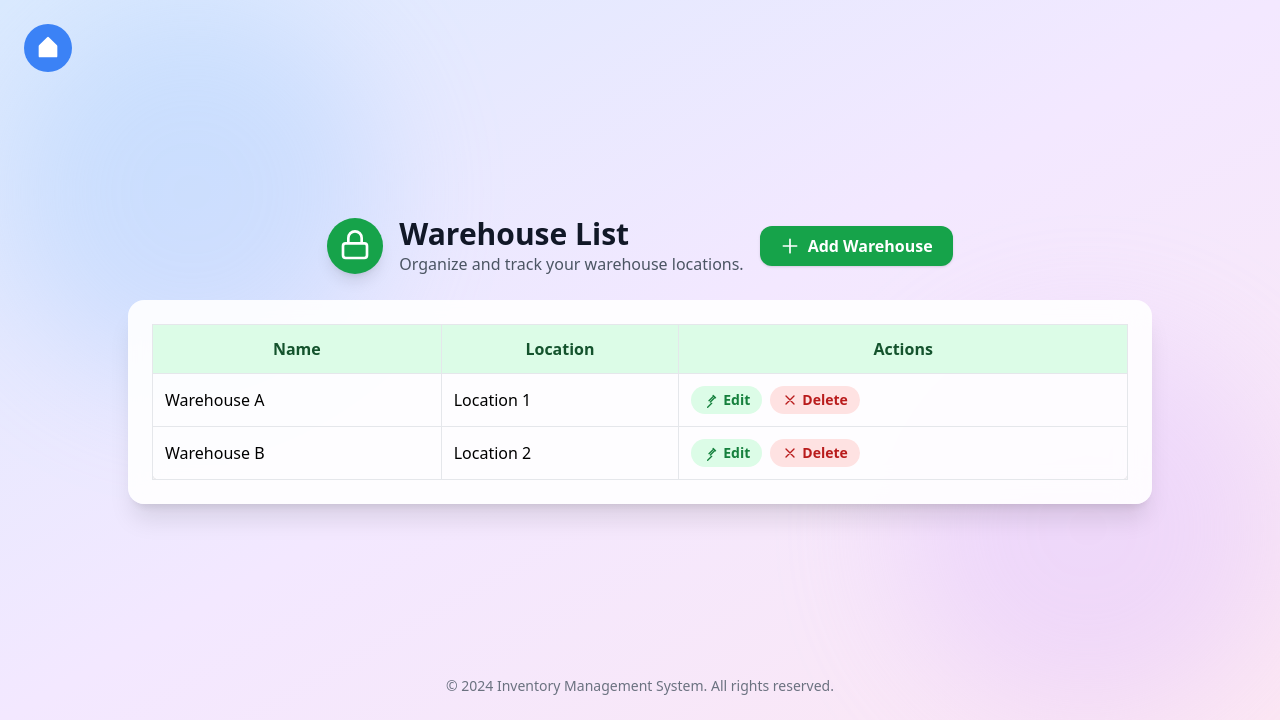
WarehouseListPage › deletes a warehouse and refreshes the list
Check: the text "Warehouse A" is shown, box [152,374,441,426]
Step 1. Click the button "Delete" in the row of "Warehouse A" → (815, 400), box [770,386,860,414]
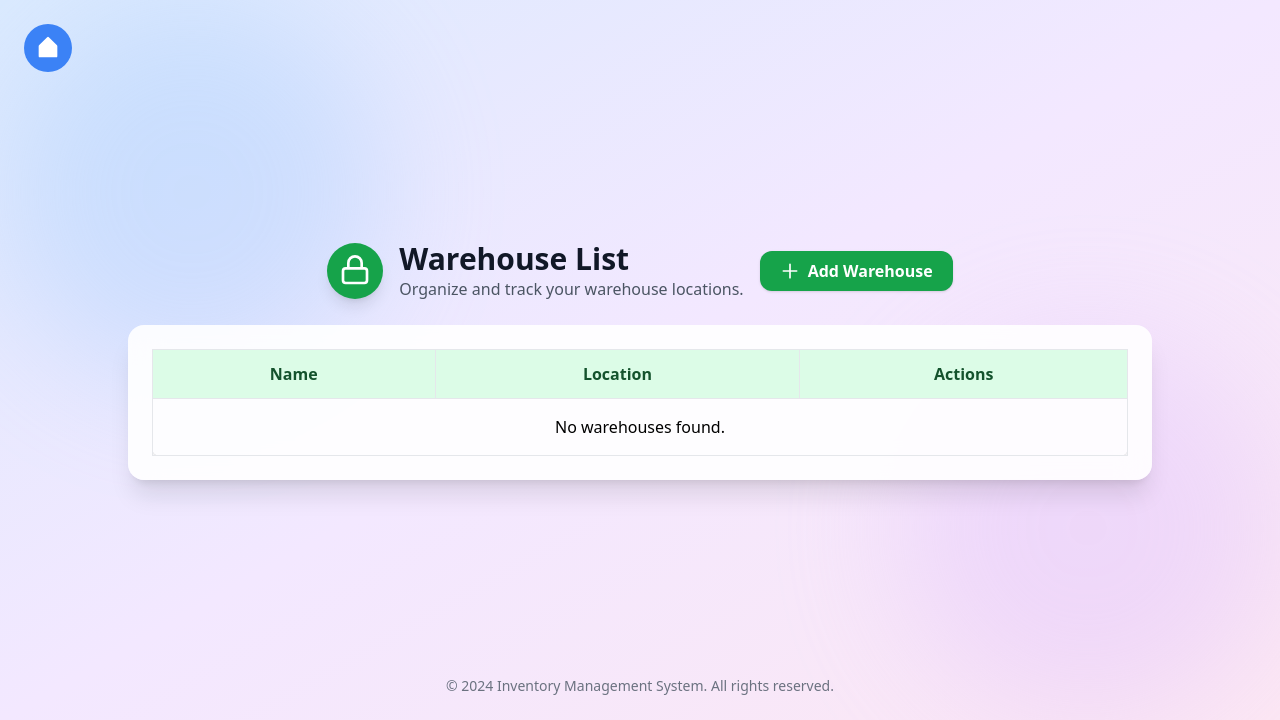
Check: the text "No warehouses found." is shown, box [152,398,1128,455]
